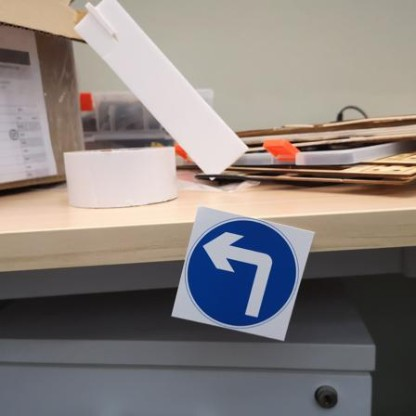left: (184, 197, 301, 338)
